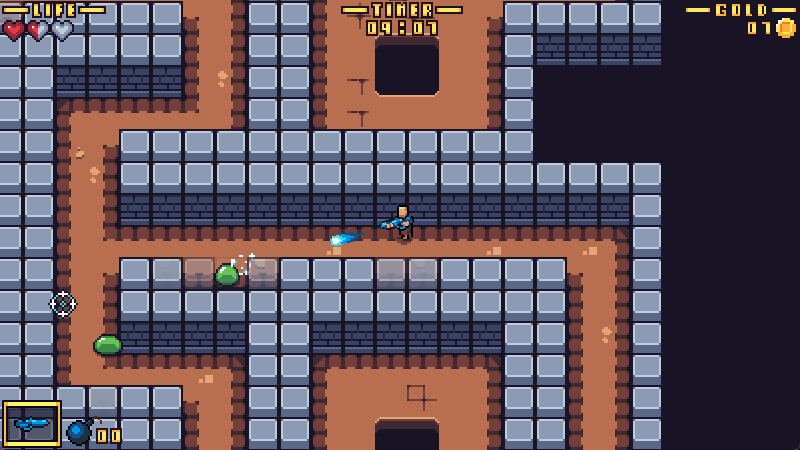aim: (49, 290, 78, 317)
enemy_slug: (214, 260, 242, 289), (94, 334, 123, 357)
health-3: (1, 19, 74, 41)
player: (382, 206, 415, 241)
shoot: (329, 231, 365, 246)
